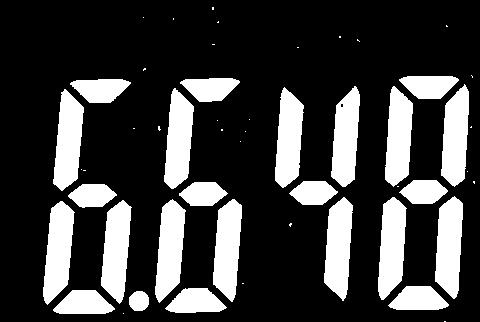4: (272, 84, 361, 303)
6: (41, 75, 132, 314), (153, 78, 243, 316)
8: (375, 72, 470, 308)
dot: (128, 290, 150, 312)
